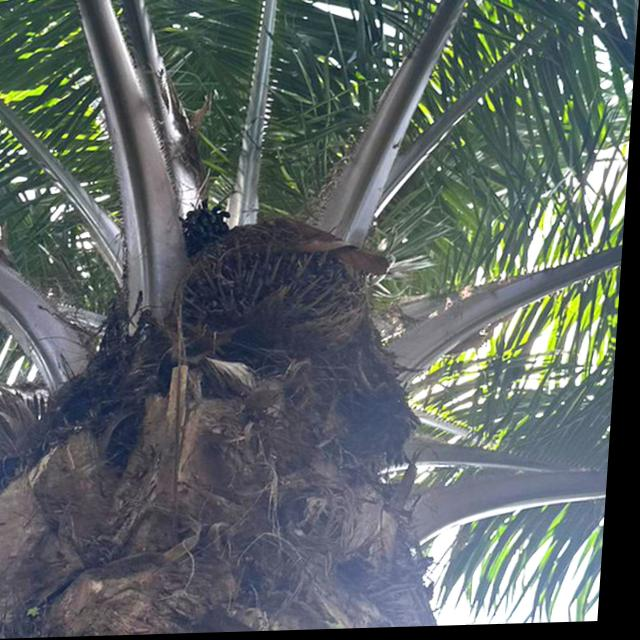ripe: (152, 209, 402, 377)
